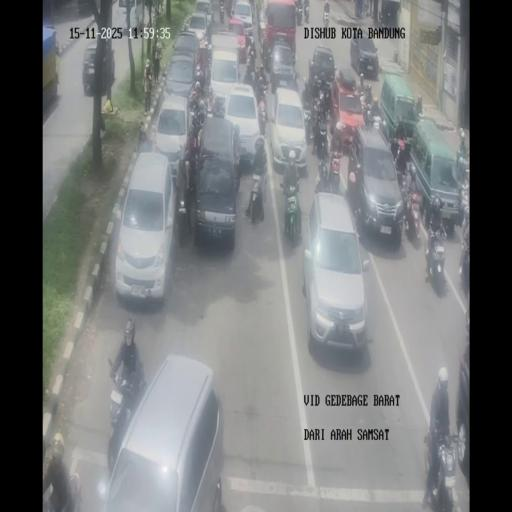car: (303, 193, 370, 351), (112, 152, 172, 302), (349, 122, 404, 244), (222, 82, 262, 169), (153, 93, 192, 182), (271, 87, 309, 175), (330, 73, 366, 151), (456, 337, 470, 492), (82, 40, 116, 96), (163, 54, 197, 104), (269, 42, 297, 92), (308, 45, 335, 92), (351, 35, 379, 80), (226, 17, 249, 60), (116, 0, 144, 34), (184, 11, 210, 45)
motorcycle: (106, 358, 146, 471), (422, 422, 459, 511), (424, 220, 448, 292), (42, 470, 82, 512), (280, 180, 302, 243), (402, 179, 423, 243), (245, 162, 266, 223), (174, 169, 190, 243), (312, 109, 329, 159), (458, 233, 470, 299), (327, 148, 343, 194), (302, 96, 316, 143), (370, 110, 390, 142), (394, 134, 408, 176), (190, 100, 205, 136), (315, 157, 330, 193), (456, 148, 469, 187), (257, 97, 267, 137), (256, 68, 268, 101), (352, 193, 363, 228), (194, 60, 206, 92), (137, 121, 149, 153), (262, 34, 272, 68), (362, 101, 374, 128), (202, 90, 214, 116), (460, 182, 469, 216), (406, 160, 417, 187), (213, 97, 226, 118), (243, 64, 254, 88), (362, 82, 373, 105), (303, 77, 312, 105), (205, 42, 212, 77), (246, 32, 255, 56), (258, 6, 266, 30), (295, 2, 303, 24), (323, 3, 330, 24), (225, 0, 233, 18), (219, 1, 225, 22), (248, 0, 255, 18), (210, 0, 216, 21), (304, 3, 310, 23), (378, 9, 383, 24)
truck: (379, 72, 421, 149), (42, 26, 58, 111)
